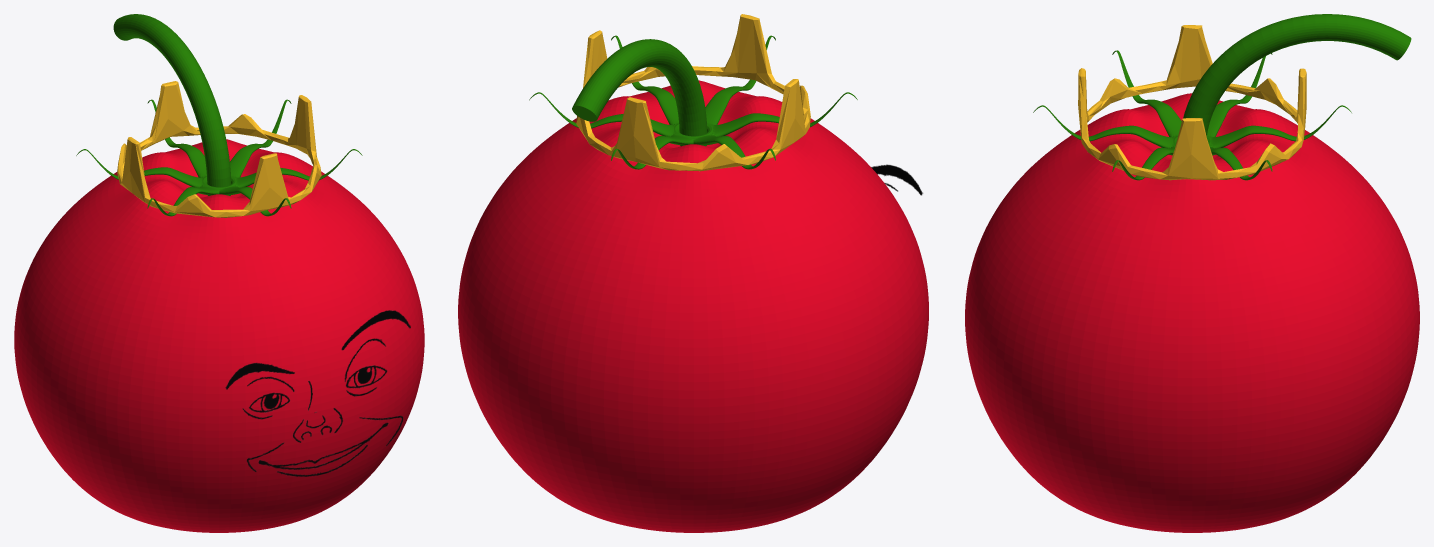
The model's file is Boss_Tomato-HumptyDumpty.glb.
The picture shows the model from 3 angles, left to right: view 1: azimuth 30°, elevation 25°; view 2: azimuth 150°, elevation 25°; view 3: azimuth 270°, elevation 25°; orthographic projection. The views are drawn at different scales.
Parts seen in each view (by area): view 1: Boss_Tomato, boss_face; view 2: Boss_Tomato; view 3: Boss_Tomato.
Part boxes in pixels (x1,y1,x2,y2): Boss_Tomato: (14, 14, 424, 532); boss_face: (225, 310, 410, 476); Boss_Tomato: (458, 14, 928, 532); Boss_Tomato: (965, 14, 1419, 532).
Size of what is drawn, in the model's own units: 2.08 by 2.39 by 2.1.
Materials: 4 (1 with a texture image).
